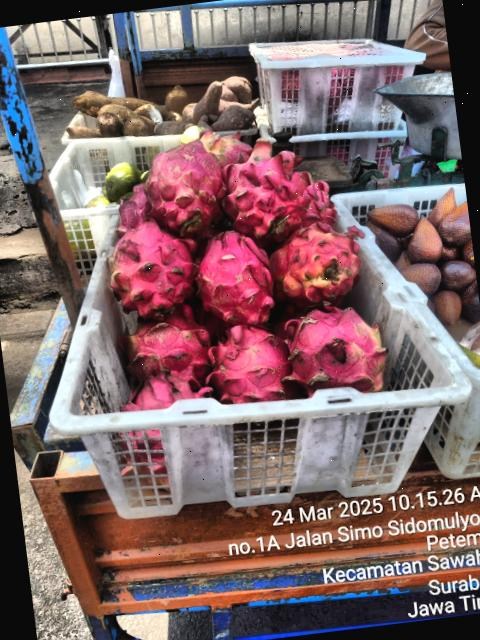buah-naga-belum-matang: (278, 292, 403, 414), (269, 221, 361, 310)
buah-naga-matang: (114, 369, 220, 496), (212, 128, 310, 245), (100, 212, 206, 316), (198, 312, 302, 414), (184, 228, 282, 334), (107, 303, 214, 392), (145, 142, 226, 230), (302, 162, 342, 228)
